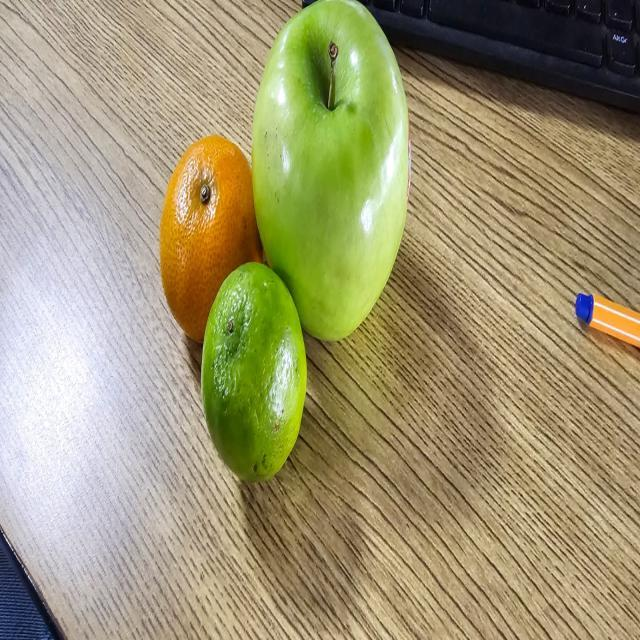Apel Granny Smith: (252, 0, 414, 356)
Jeruk Mandarin: (155, 124, 270, 346)
Lemon: (196, 254, 317, 488)
